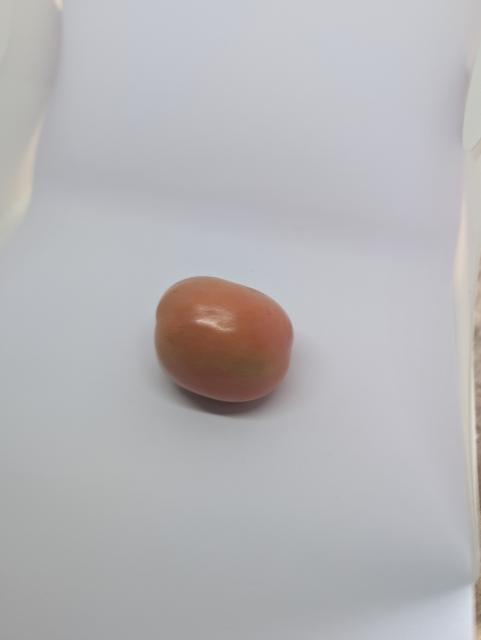turning: (145, 271, 298, 409)
